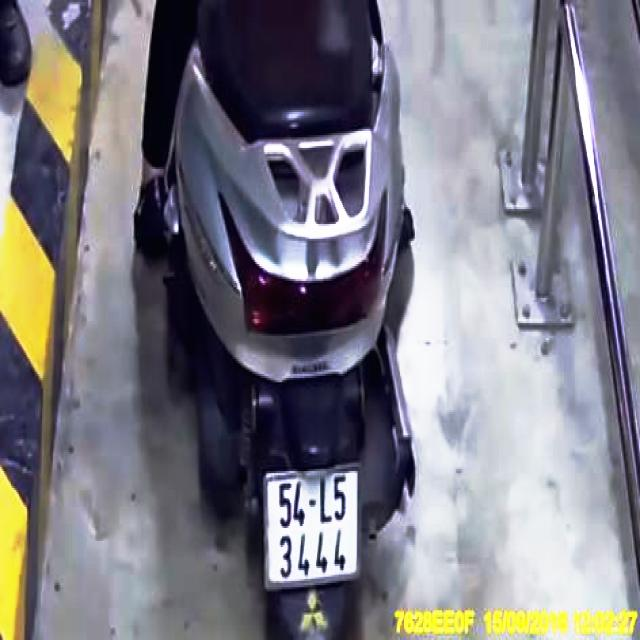license_plate: (269, 463, 360, 587)
